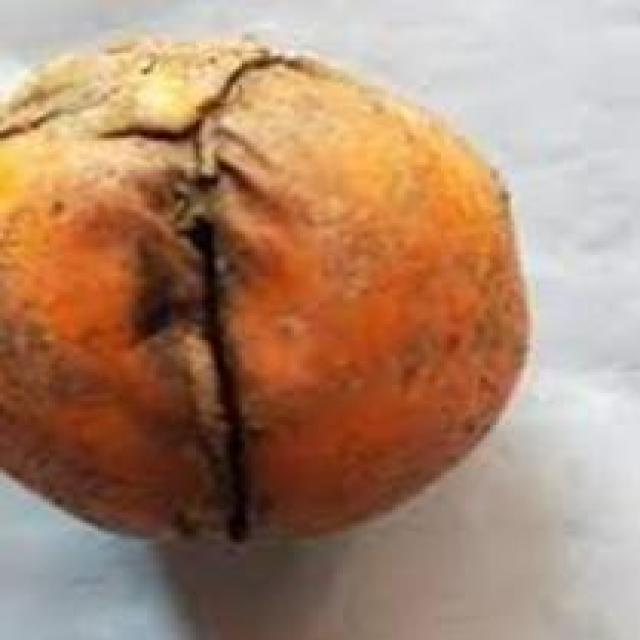damaged: (0, 35, 536, 555)
